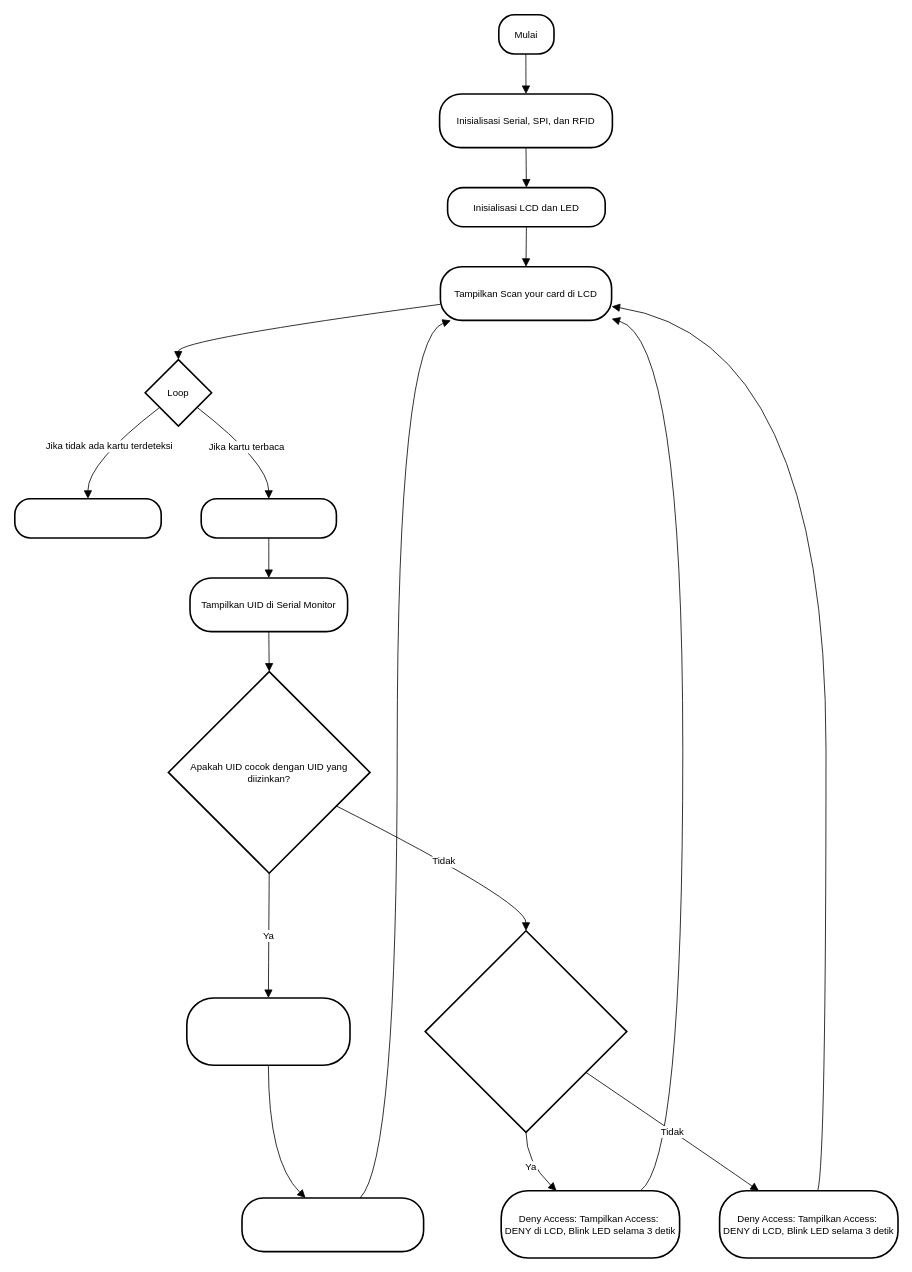
The diagram is 912 pixels wide and 1272 high, and some of its shapes have lost their labels. Each missing label, with the centre of its shape:
Allow Access: Tampilkan Access: ALLOW di LCD, Nyalakan LED: pixel 268 1031
Apakah UID cocok dengan UID yang ditolak?: pixel 525 1031
Baca UID dari kartu: pixel 268 518
Kembali ke awal loop: pixel 88 518
Tunggu 3 detik dan Matikan LED: pixel 332 1224
